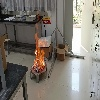fire: (33, 11, 47, 71)
